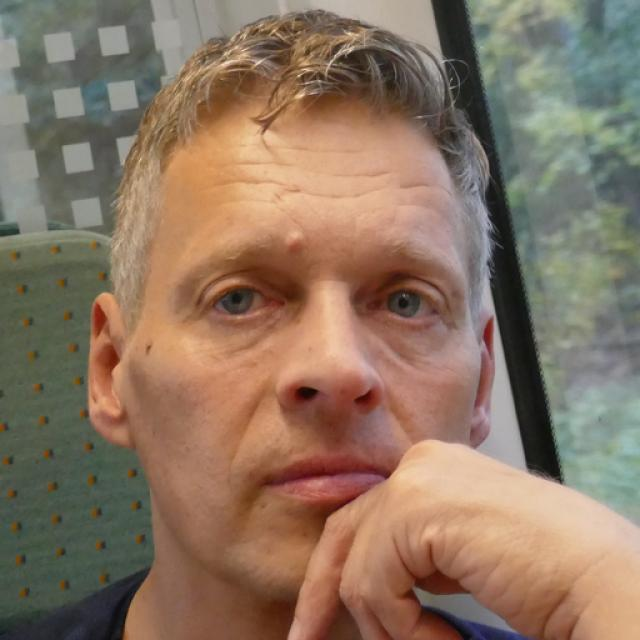Acne: (276, 231, 309, 252)
Wrinkle: (254, 140, 373, 156), (291, 184, 394, 201), (211, 174, 286, 188), (232, 153, 291, 168), (332, 169, 395, 179), (404, 180, 434, 192)
